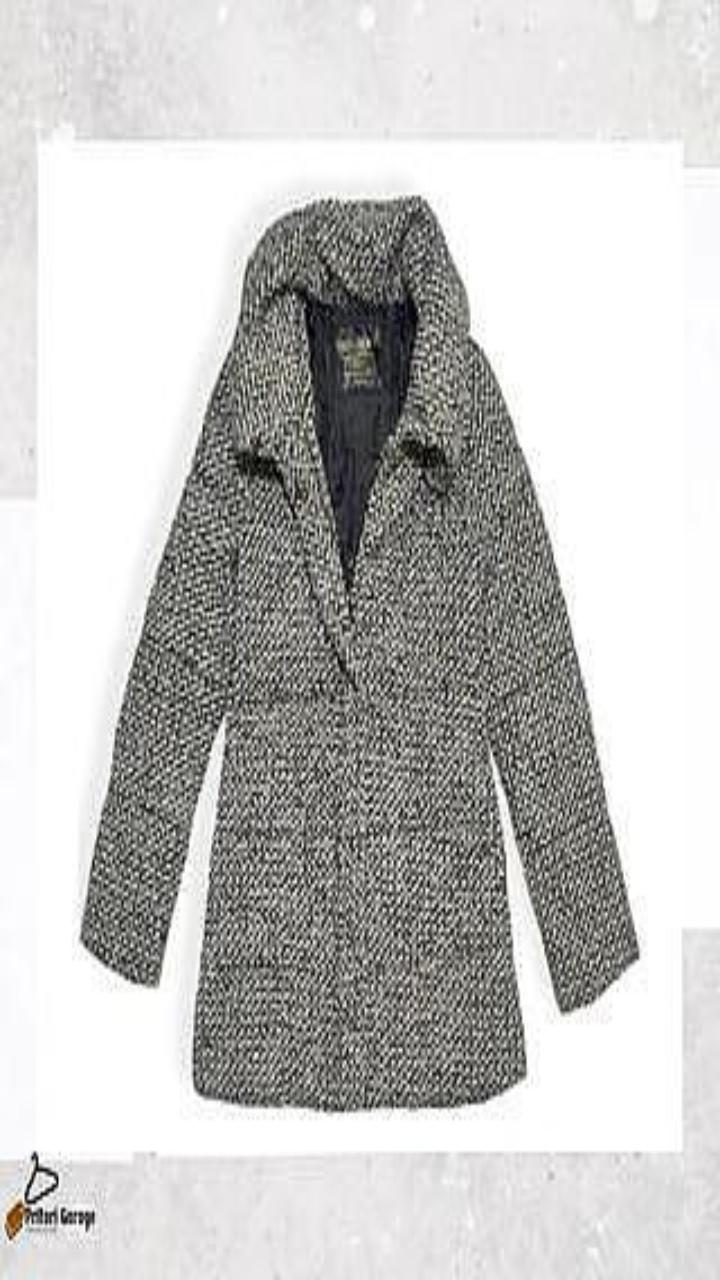Coat: (82, 197, 637, 1108)
